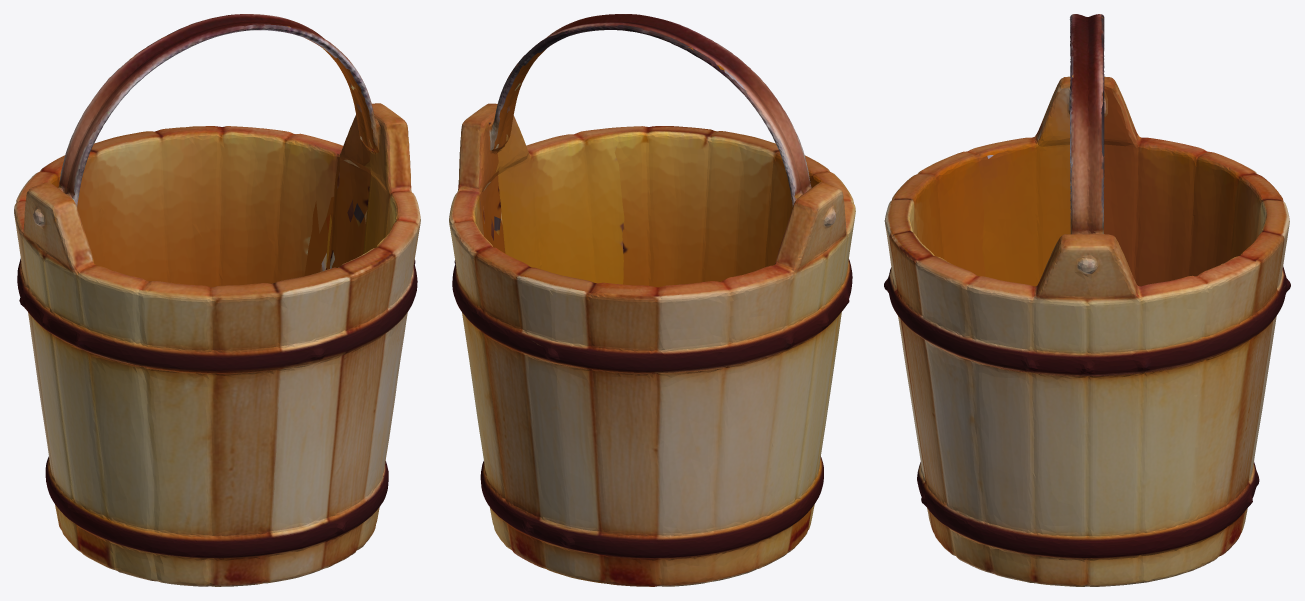
File: mdl_bucket_001.glb
3 renders of one model, left to right at view 1: azimuth 30°, elevation 25°; view 2: azimuth 150°, elevation 25°; view 3: azimuth 270°, elevation 25°, orthographic.
Visible parts, largest first — view 1: tmpfqtnnq2b.ply; view 2: tmpfqtnnq2b.ply; view 3: tmpfqtnnq2b.ply.
Part boxes in pixels (x1,y1,x2,y2): tmpfqtnnq2b.ply: (14, 14, 420, 586); tmpfqtnnq2b.ply: (449, 14, 855, 586); tmpfqtnnq2b.ply: (884, 14, 1290, 586).
Size of the model in its own units: 0.7597 by 0.991 by 0.7445.
1 material, 1 textured.
